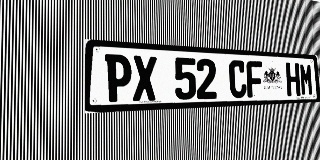2: (196, 58, 217, 99)
5: (175, 57, 196, 100)
C: (229, 60, 247, 98)
F: (246, 61, 263, 98)
H: (286, 62, 300, 96)
M: (299, 63, 313, 96)
P: (105, 54, 132, 102)
X: (132, 55, 157, 101)
